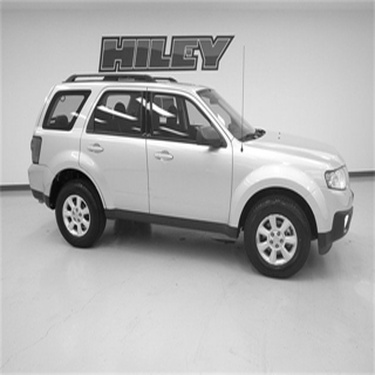car: (15, 62, 361, 283)
